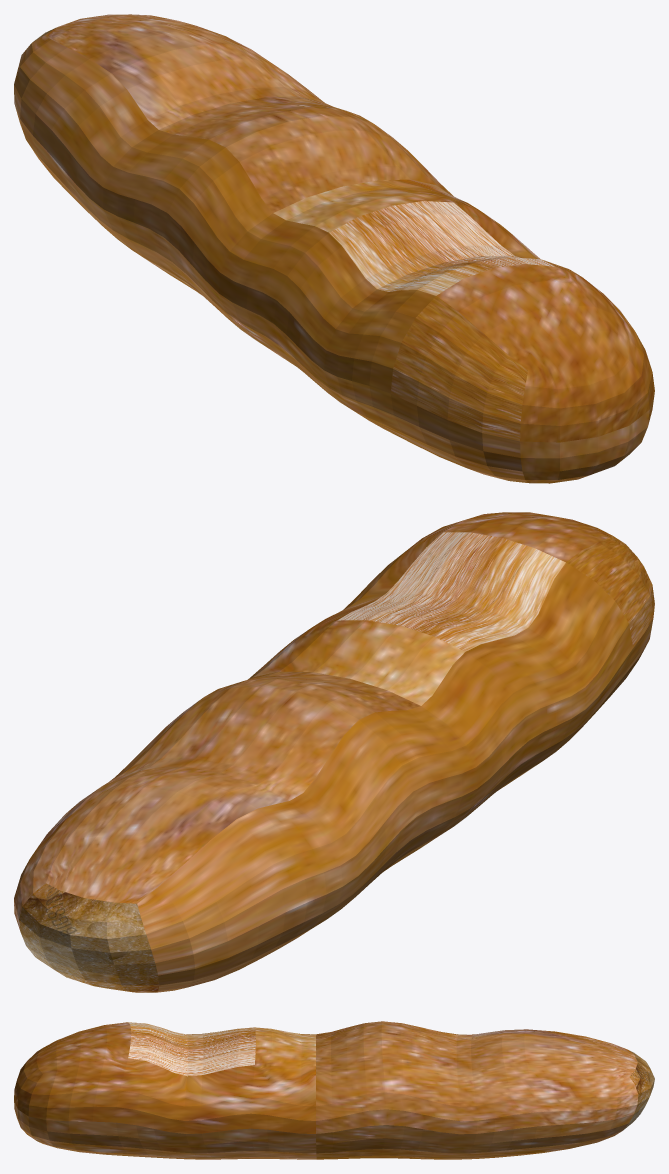
The model's file is kkkk 1.fbx.
3 views of the same model, one above another, from view 1: azimuth 30°, elevation 25°; view 2: azimuth 150°, elevation 25°; view 3: azimuth 270°, elevation 25° (orthographic). The views are drawn at different scales.
Visible parts, largest first — view 1: Cube; view 2: Cube; view 3: Cube.
Boxes of the visible parts, x1,y1,x2,y2 form: Cube: (14,14,654,483); Cube: (14,512,654,992); Cube: (14,1021,654,1159).
Bounding box in the file's own units: 124 × 91.42 × 453.
